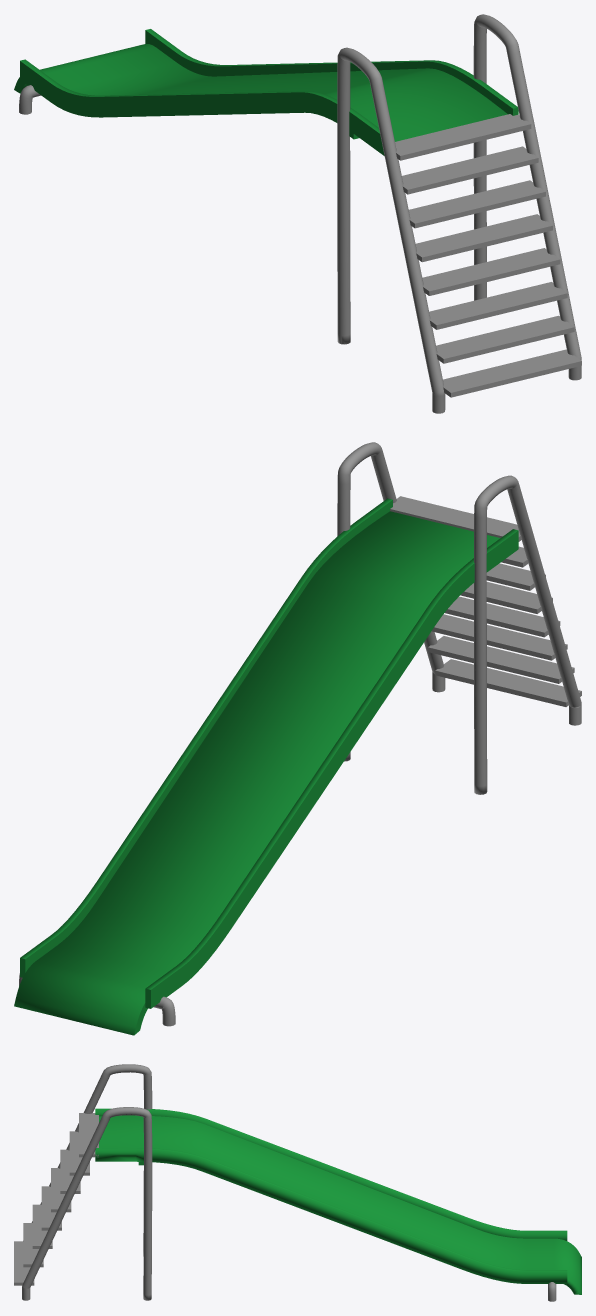
Rendered from Slides.glb.
3 views of the same model, one above another, from view 1: azimuth 30°, elevation 25°; view 2: azimuth 150°, elevation 25°; view 3: azimuth 270°, elevation 25° (orthographic). The views are drawn at different scales.
Parts seen in each view (by area): view 1: Spline 2D (×3), Cube (×8), Spline 3D (×2); view 2: Spline 2D (×3), Cube (×7), Spline 3D (×2); view 3: Spline 2D (×3), Spline 3D (×2), Cube (×8).
Part boxes in pixels (x1=…): Spline 2D (×3): x1=14, y1=29, x2=518, y2=155; Cube (×8): x1=395, y1=114, x2=581, y2=397; Spline 3D (×2): x1=337, y1=14, x2=581, y2=413; Spline 2D (×3): x1=14, y1=498, x2=518, y2=1035; Cube (×7): x1=390, y1=496, x2=581, y2=706; Spline 3D (×2): x1=337, y1=442, x2=581, y2=794; Spline 2D (×3): x1=95, y1=1108, x2=581, y2=1294; Spline 3D (×2): x1=22, y1=1064, x2=152, y2=1300; Cube (×8): x1=14, y1=1113, x2=98, y2=1285.
Size of the model in its own units: 0.8503 by 1.57 by 4.21.
